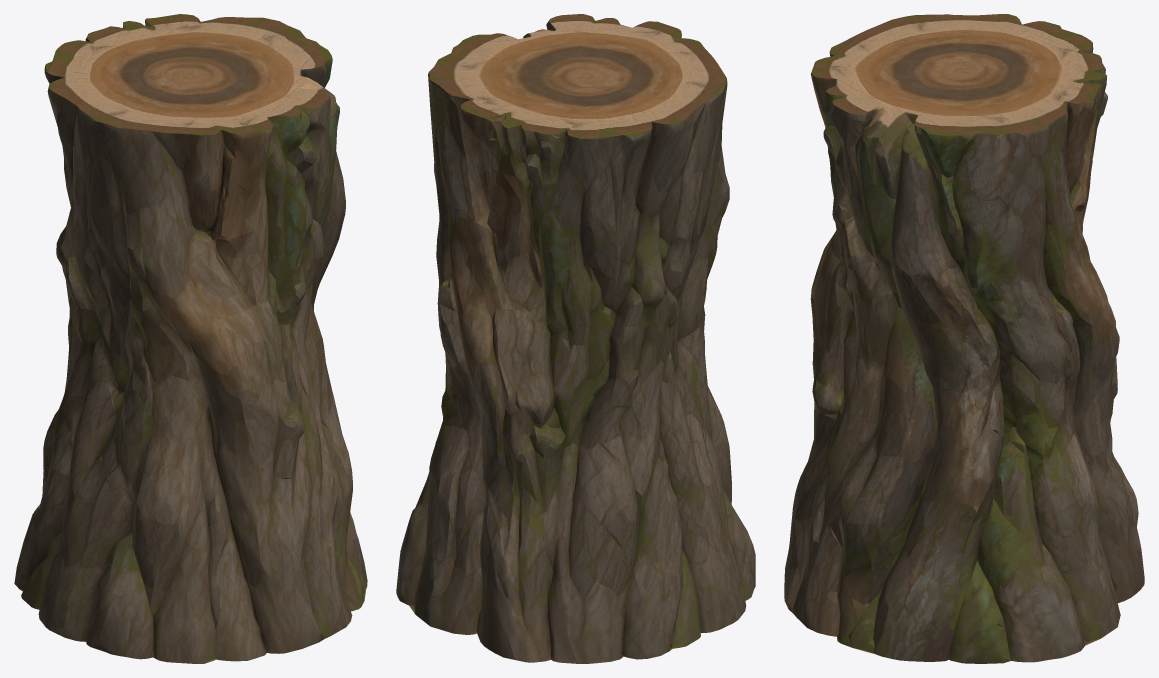
The model's file is treeTrunk.glb.
3 renders of one model, left to right at view 1: azimuth 30°, elevation 25°; view 2: azimuth 150°, elevation 25°; view 3: azimuth 270°, elevation 25°, orthographic.
Size of the model in its own units: 1.16 by 1.9 by 1.2.
1 material, 1 textured.
